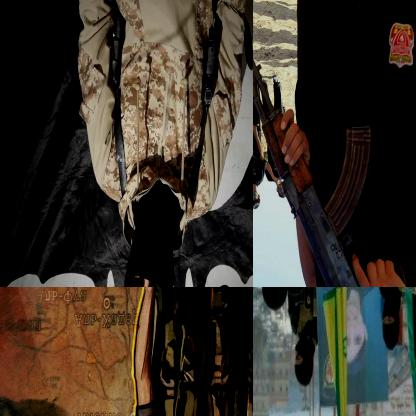pistol: (196, 31, 222, 113)
rifle: (253, 10, 405, 286)
